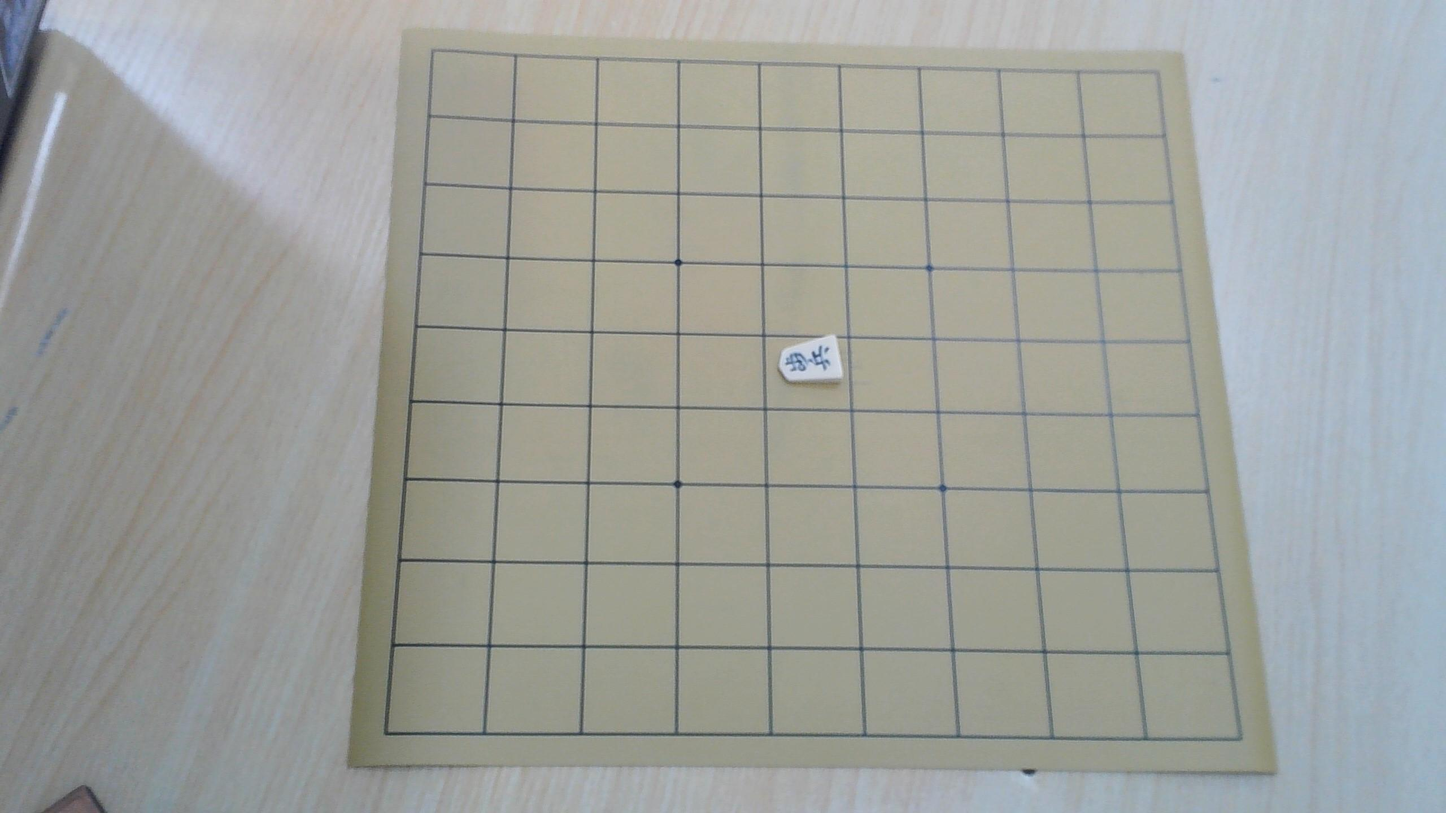board: (386, 52, 1241, 740)
